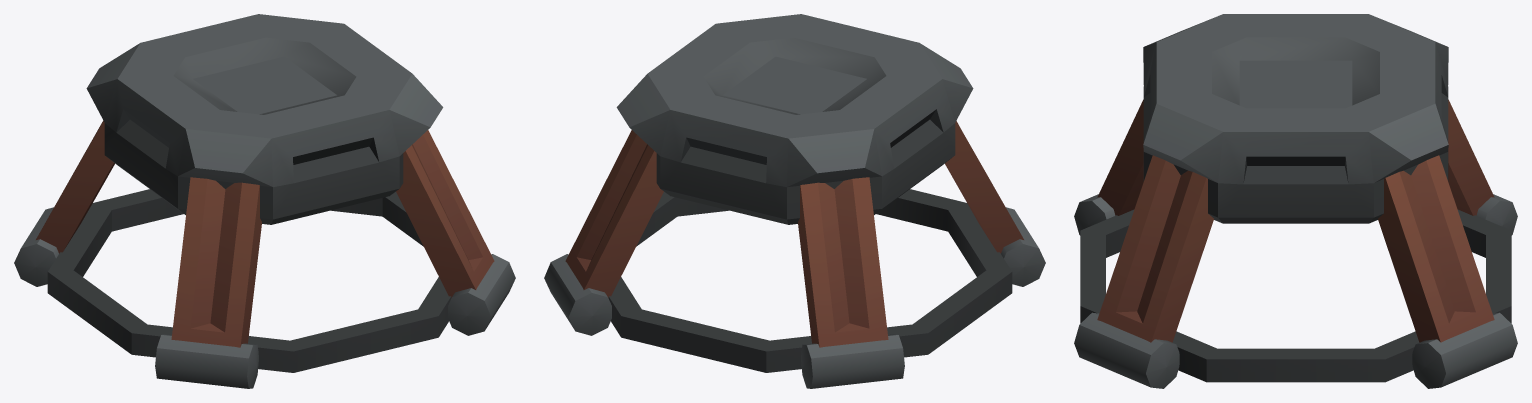
Rendered from pumphouse.glb.
The picture shows the model from 3 angles, left to right: view 1: azimuth 30°, elevation 25°; view 2: azimuth 150°, elevation 25°; view 3: azimuth 270°, elevation 25°; orthographic projection. The views are drawn at different scales.
Visible parts, largest first — view 1: structure_low; view 2: structure_low; view 3: structure_low.
Boxes of the visible parts, x1=… form: structure_low: x1=14, y1=14, x2=515, y2=388; structure_low: x1=544, y1=14, x2=1045, y2=388; structure_low: x1=1074, y1=14, x2=1517, y2=388.
Size of the model in its own units: 1.75 by 1 by 1.75.
1 material, 1 textured.
